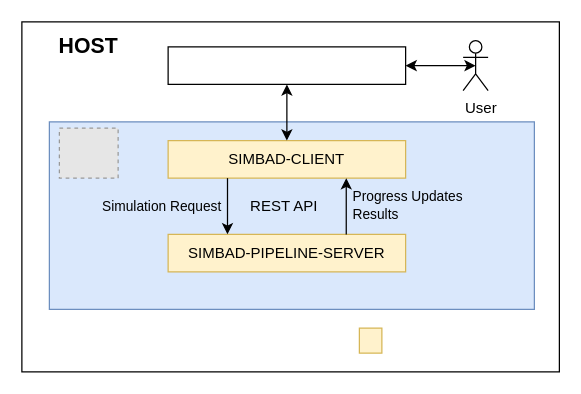
The diagram is 581 pixels wide and 394 high, and some of its shapes have lost their labels. Grey dashed boxes stand in for pictures. The shapes that lost their labels are listed below. From the top down, each one's centre as x and y in pixels, then its label:
At pixel 286 65: "BROWSER".
At pixel 370 340: "Added Components".
